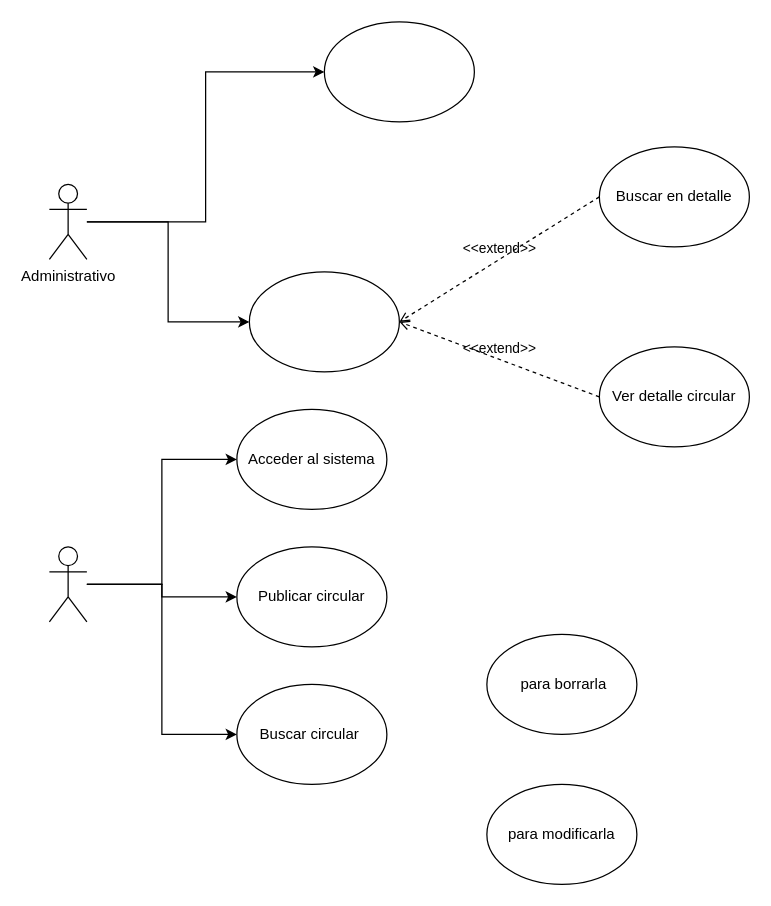
The diagram is 771 pixels wide and 906 high, and some of its shapes have lost their labels. Each missing label, with the centre of its shape:
Buscar por fecha: pixel 323 321
Responsable: pixel 67 584
Suscribirse: pixel 398 71
